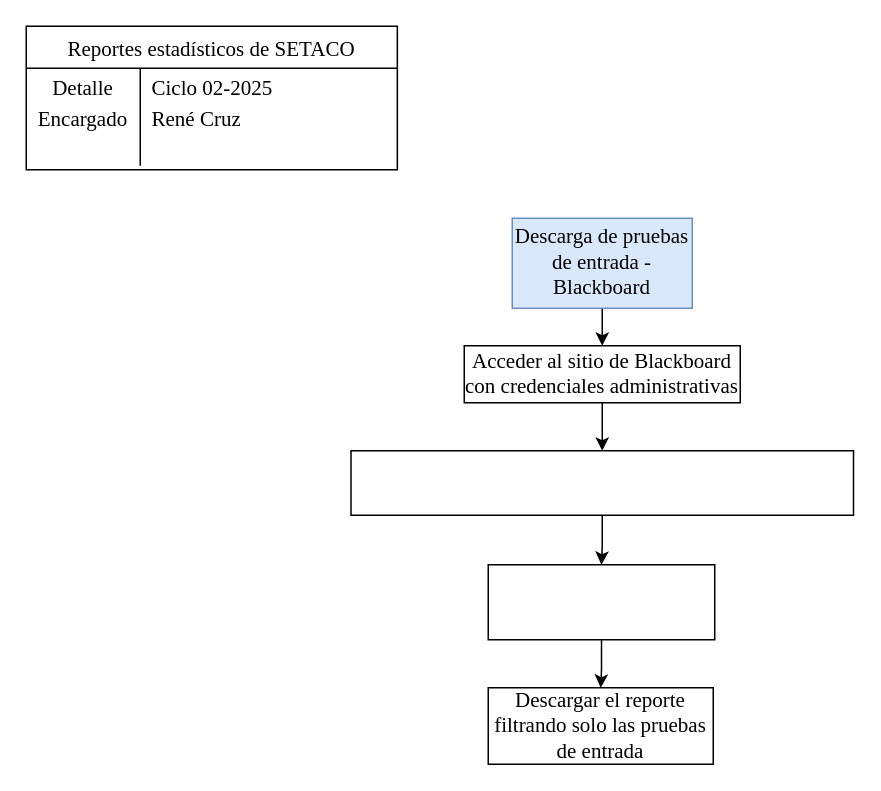
Some shapes in this 881 by 791 pixel diagram are drawn without their labels. The box of each missing label's shape, as (x1, y1, x2, y2) in pixels:
En cada aula, abrir el libro de calificaciones: (487, 563, 715, 640)
Ir a Administrador/Cursos/Filtrar por id de curso/STCA, STCC, STCB o STCD: (350, 449, 854, 515)
